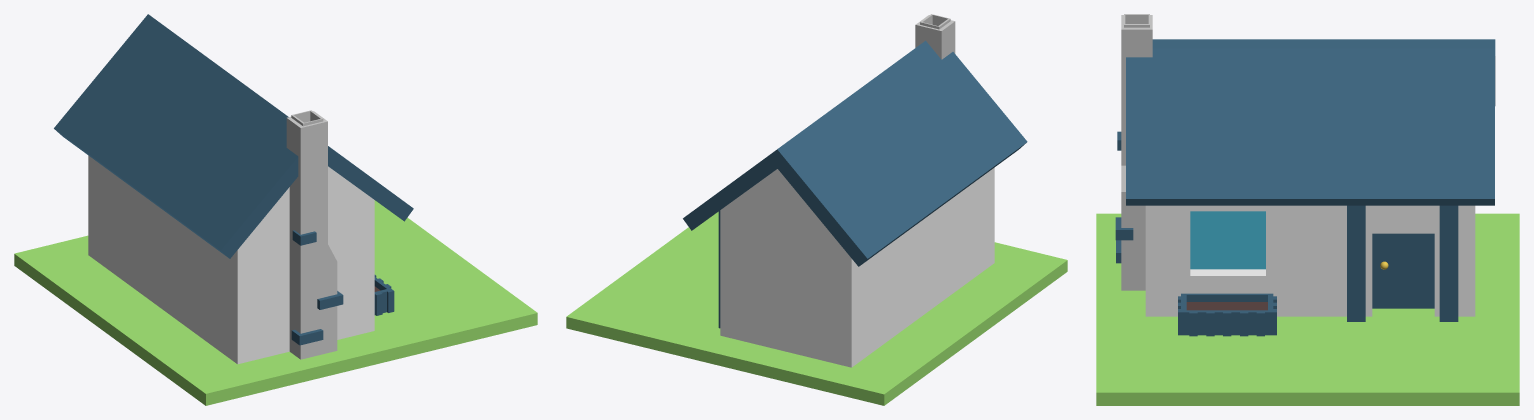
File: casa-2.glb
3 renders of one model, left to right at view 1: azimuth 30°, elevation 25°; view 2: azimuth 150°, elevation 25°; view 3: azimuth 270°, elevation 25°, orthographic. The views are drawn at different scales.
Parts seen in each view (by area): view 1: Cubo.002, Cube, Cubo, Cubo.003, Cubo.005; view 2: Cubo, Cubo.002, Cube, Cubo.003; view 3: Cubo.002, Cube, Cubo, Cubo.005, Cubo.003, Cubo.004, Cubo.001.
Boxes of the visible parts, x1,y1,x2,y2 form: Cubo.002: (54, 14, 413, 258); Cube: (14, 200, 537, 405); Cubo: (88, 155, 374, 364); Cubo.003: (286, 110, 337, 359); Cubo.005: (374, 275, 394, 315); Cubo: (720, 167, 994, 367); Cubo.002: (683, 40, 1027, 266); Cube: (566, 211, 1067, 405); Cubo.003: (915, 14, 955, 59); Cubo.002: (1126, 39, 1495, 205); Cube: (1096, 213, 1519, 405); Cubo: (1145, 205, 1475, 316); Cubo.005: (1178, 293, 1276, 336); Cubo.003: (1121, 14, 1152, 290); Cubo.004: (1439, 205, 1458, 321); Cubo.001: (1347, 205, 1365, 321).
Bounding box in the file's own units: 6.17 × 4.38 × 6.17.
